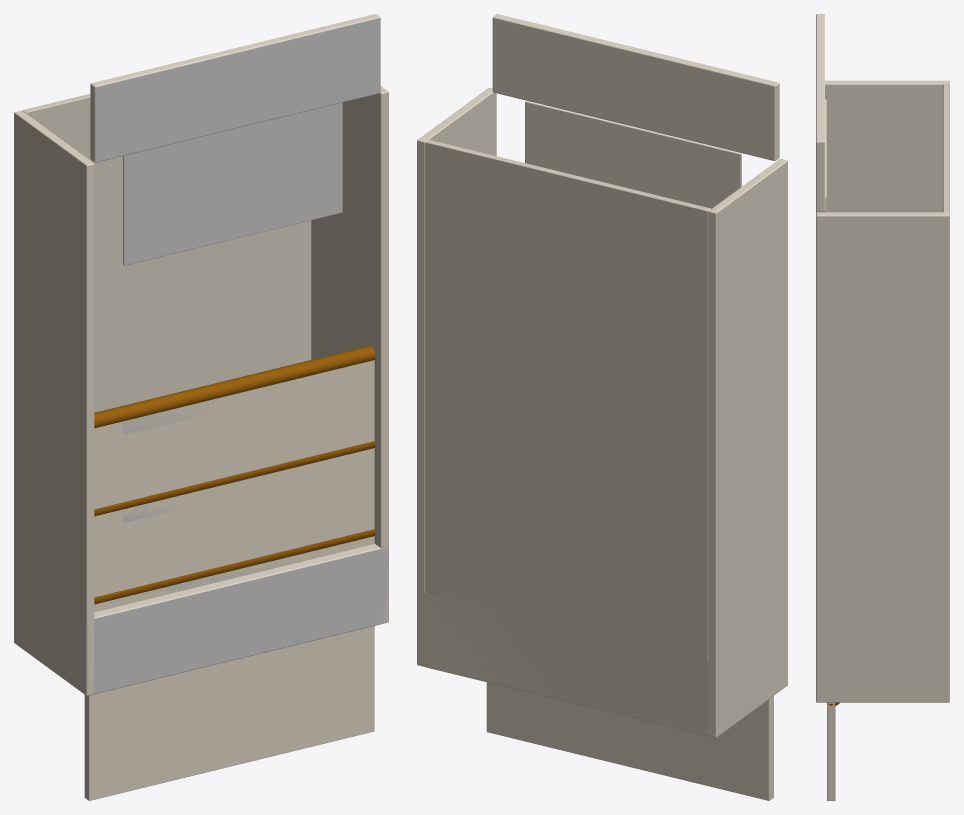
The model's file is display_rack.obj.
3 views of the same model, side by side, from view 1: azimuth 30°, elevation 25°; view 2: azimuth 150°, elevation 25°; view 3: azimuth 270°, elevation 25° (orthographic). The views are drawn at different scales.
Parts seen in each view (by area): view 1: carcass.side_1, carcass.back, shelf.deck_1, base.plinth, shelf.deck_3, panel.graphic, carcass.header, shelf.deck_4, carcass.side_2, shelf.nose_4, shelf.deck_2, shelf.nose_2 (+2 smaller); view 2: carcass.back, carcass.side_1, carcass.header, shelf.deck_1, panel.graphic, base.plinth, carcass.side_2; view 3: carcass.side_2, carcass.side_1, base.plinth, carcass.header, carcass.back, shelf.deck_1.
Boxes of the visible parts, x1,y1,x2,y2 form: carcass.side_1: (14,110,94,695); carcass.back: (22,94,311,412); shelf.deck_1: (84,626,374,800); base.plinth: (14,544,388,695); shelf.deck_3: (94,448,374,612); panel.graphic: (123,102,342,265); carcass.header: (90,14,380,162); shelf.deck_4: (94,360,374,523); carcass.side_2: (311,86,388,622); shelf.nose_4: (94,345,375,428); shelf.deck_2: (84,536,374,712); shelf.nose_2: (94,528,375,604); carcass.back: (425,139,710,735); carcass.side_1: (708,159,787,737); carcass.header: (492,14,779,160); shelf.deck_1: (486,682,773,800); panel.graphic: (525,101,741,208); base.plinth: (417,591,787,737); carcass.side_2: (417,87,496,666); carcass.side_2: (816,212,949,701); carcass.side_1: (816,80,949,212); base.plinth: (816,633,949,702); carcass.header: (816,14,824,211); carcass.back: (943,84,949,212); shelf.deck_1: (827,702,835,800).
Bounding box in the file's own units: 0.9144 × 2.07 × 0.381.
